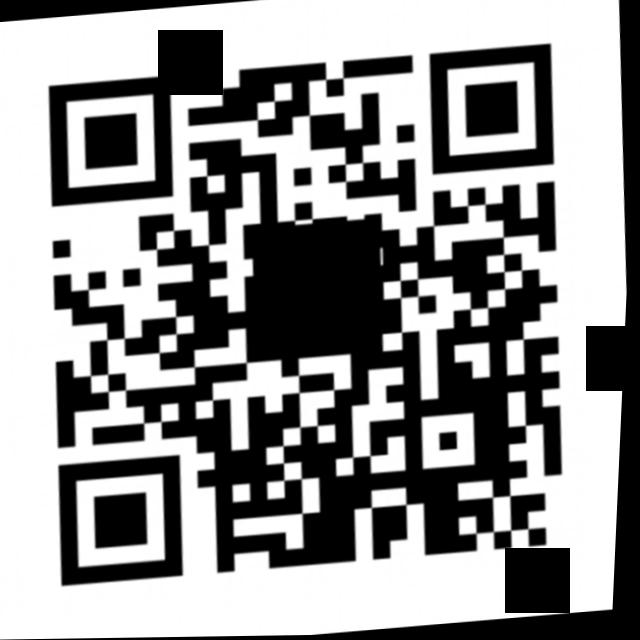QR_CODE: (7, 24, 607, 600)
